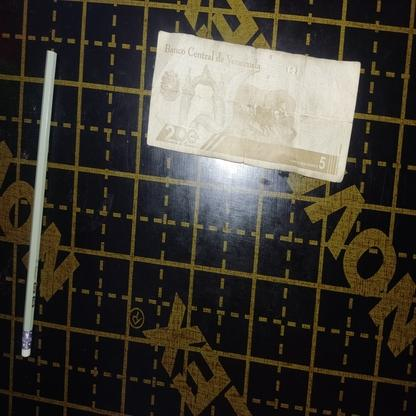five-back-vef: (146, 30, 361, 183)
